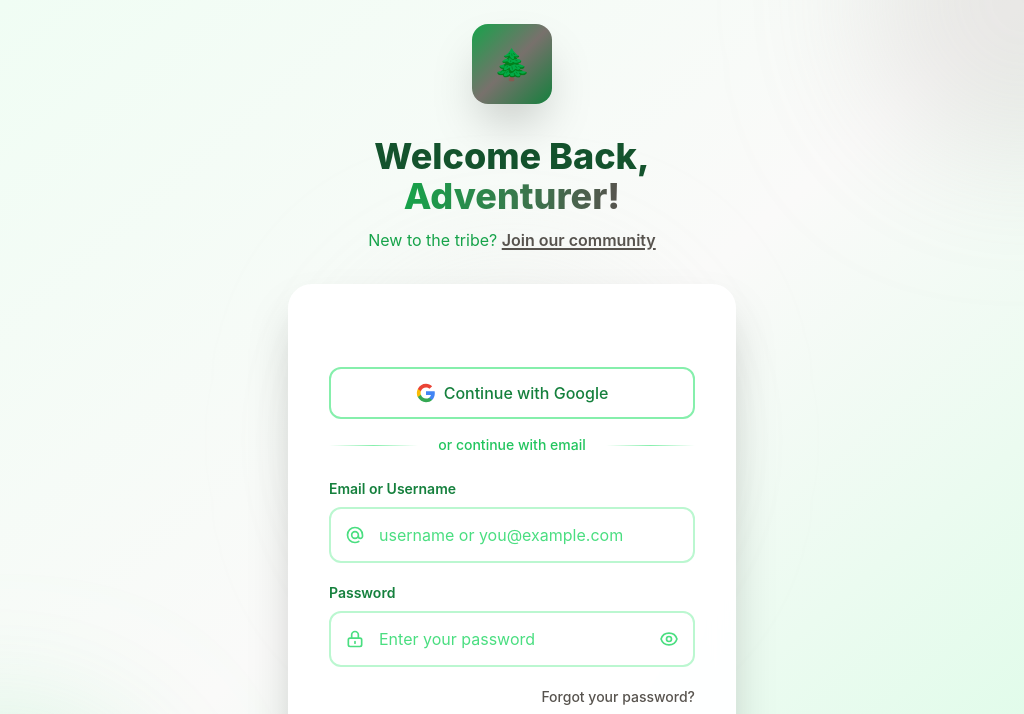
Scenario: Login Component › displays error message when login fails
Type "bad@test.com" into the field with placeholder "username or you@example.com" at (512, 535), box [329,507,695,563]
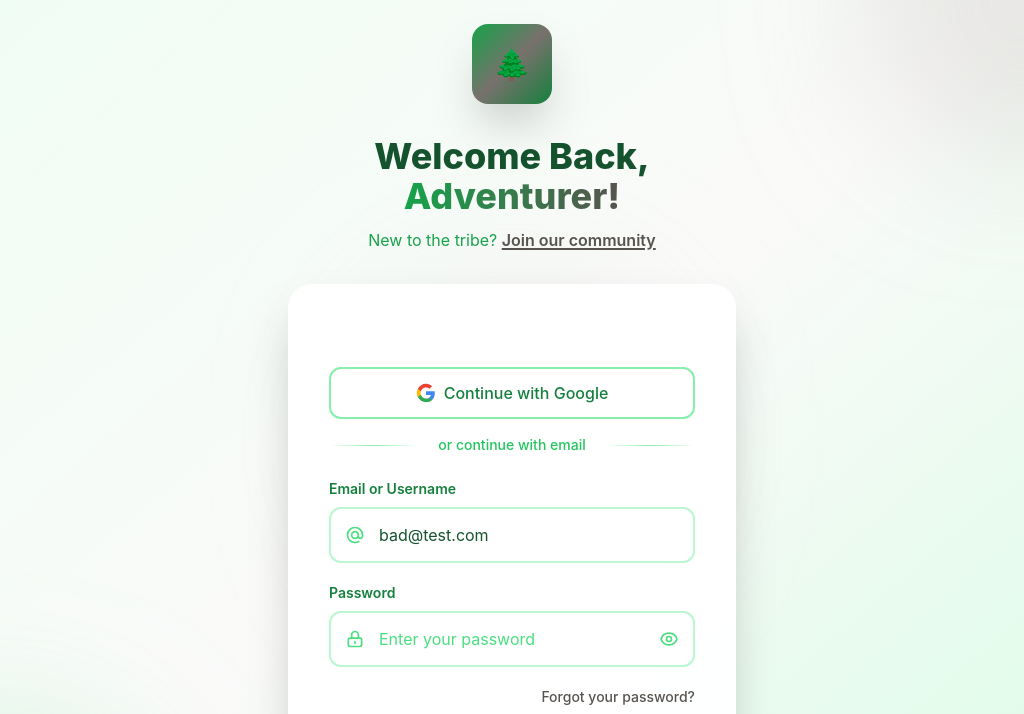
Type "wrongpass" into the password field with placeholder "Enter your password" at (512, 639), box [329,611,695,667]
(page scrolled)
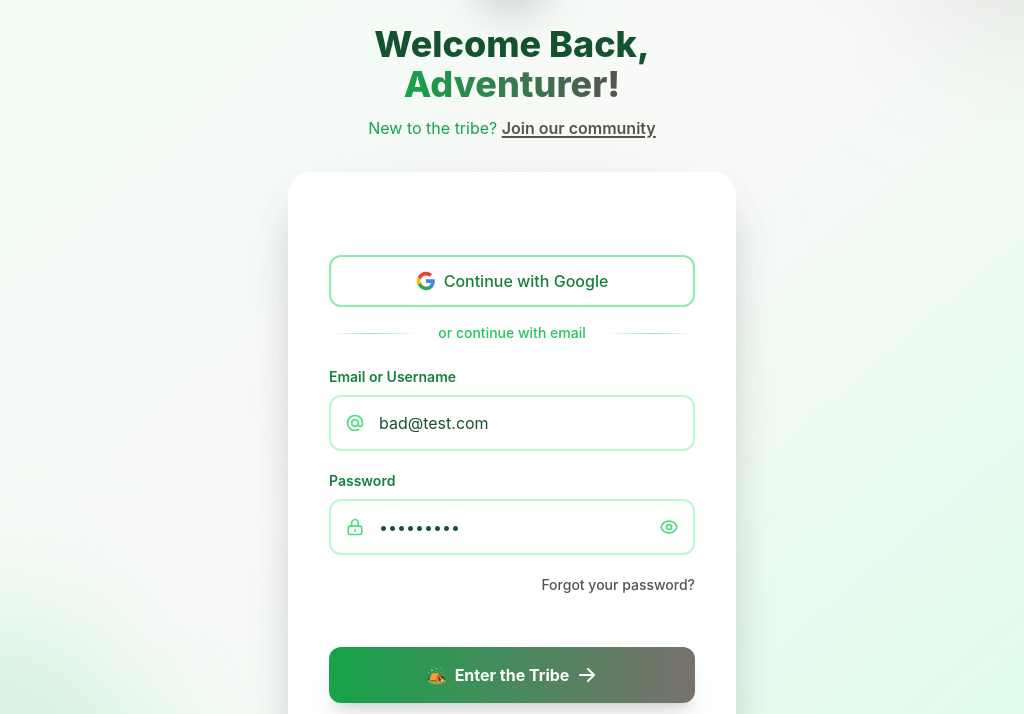
Click the text "Enter the Tribe" at (512, 675), box [455,663,569,687]
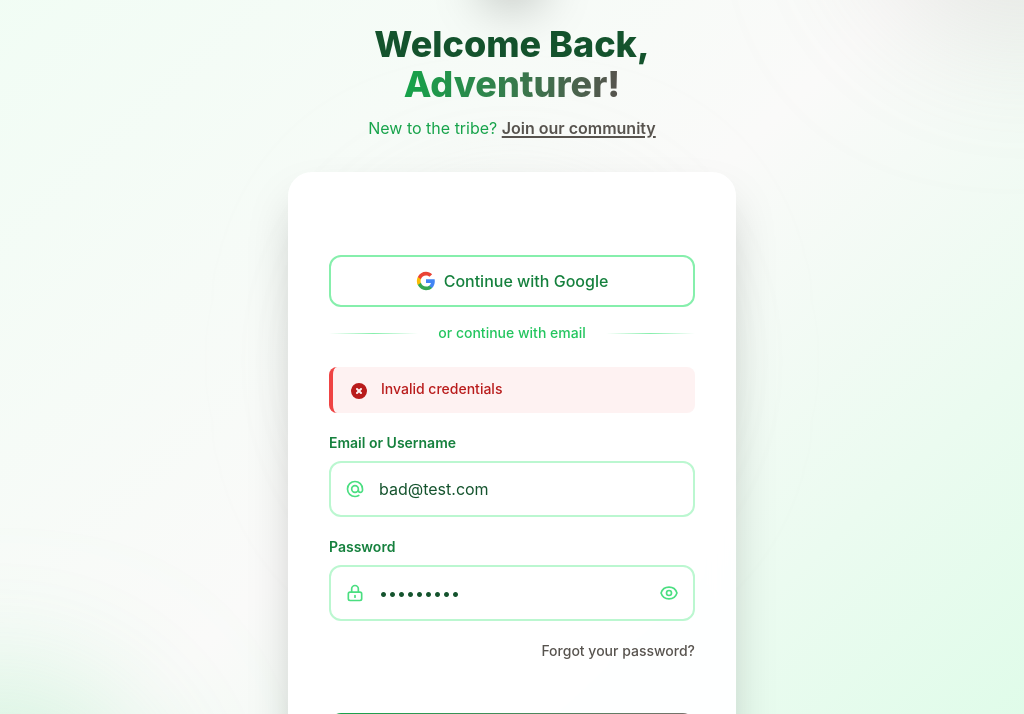
Now the text "Invalid credentials" is shown, box [381,380,502,397]
